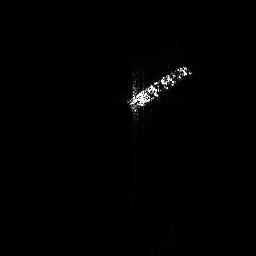ship: (128, 62, 187, 111)
